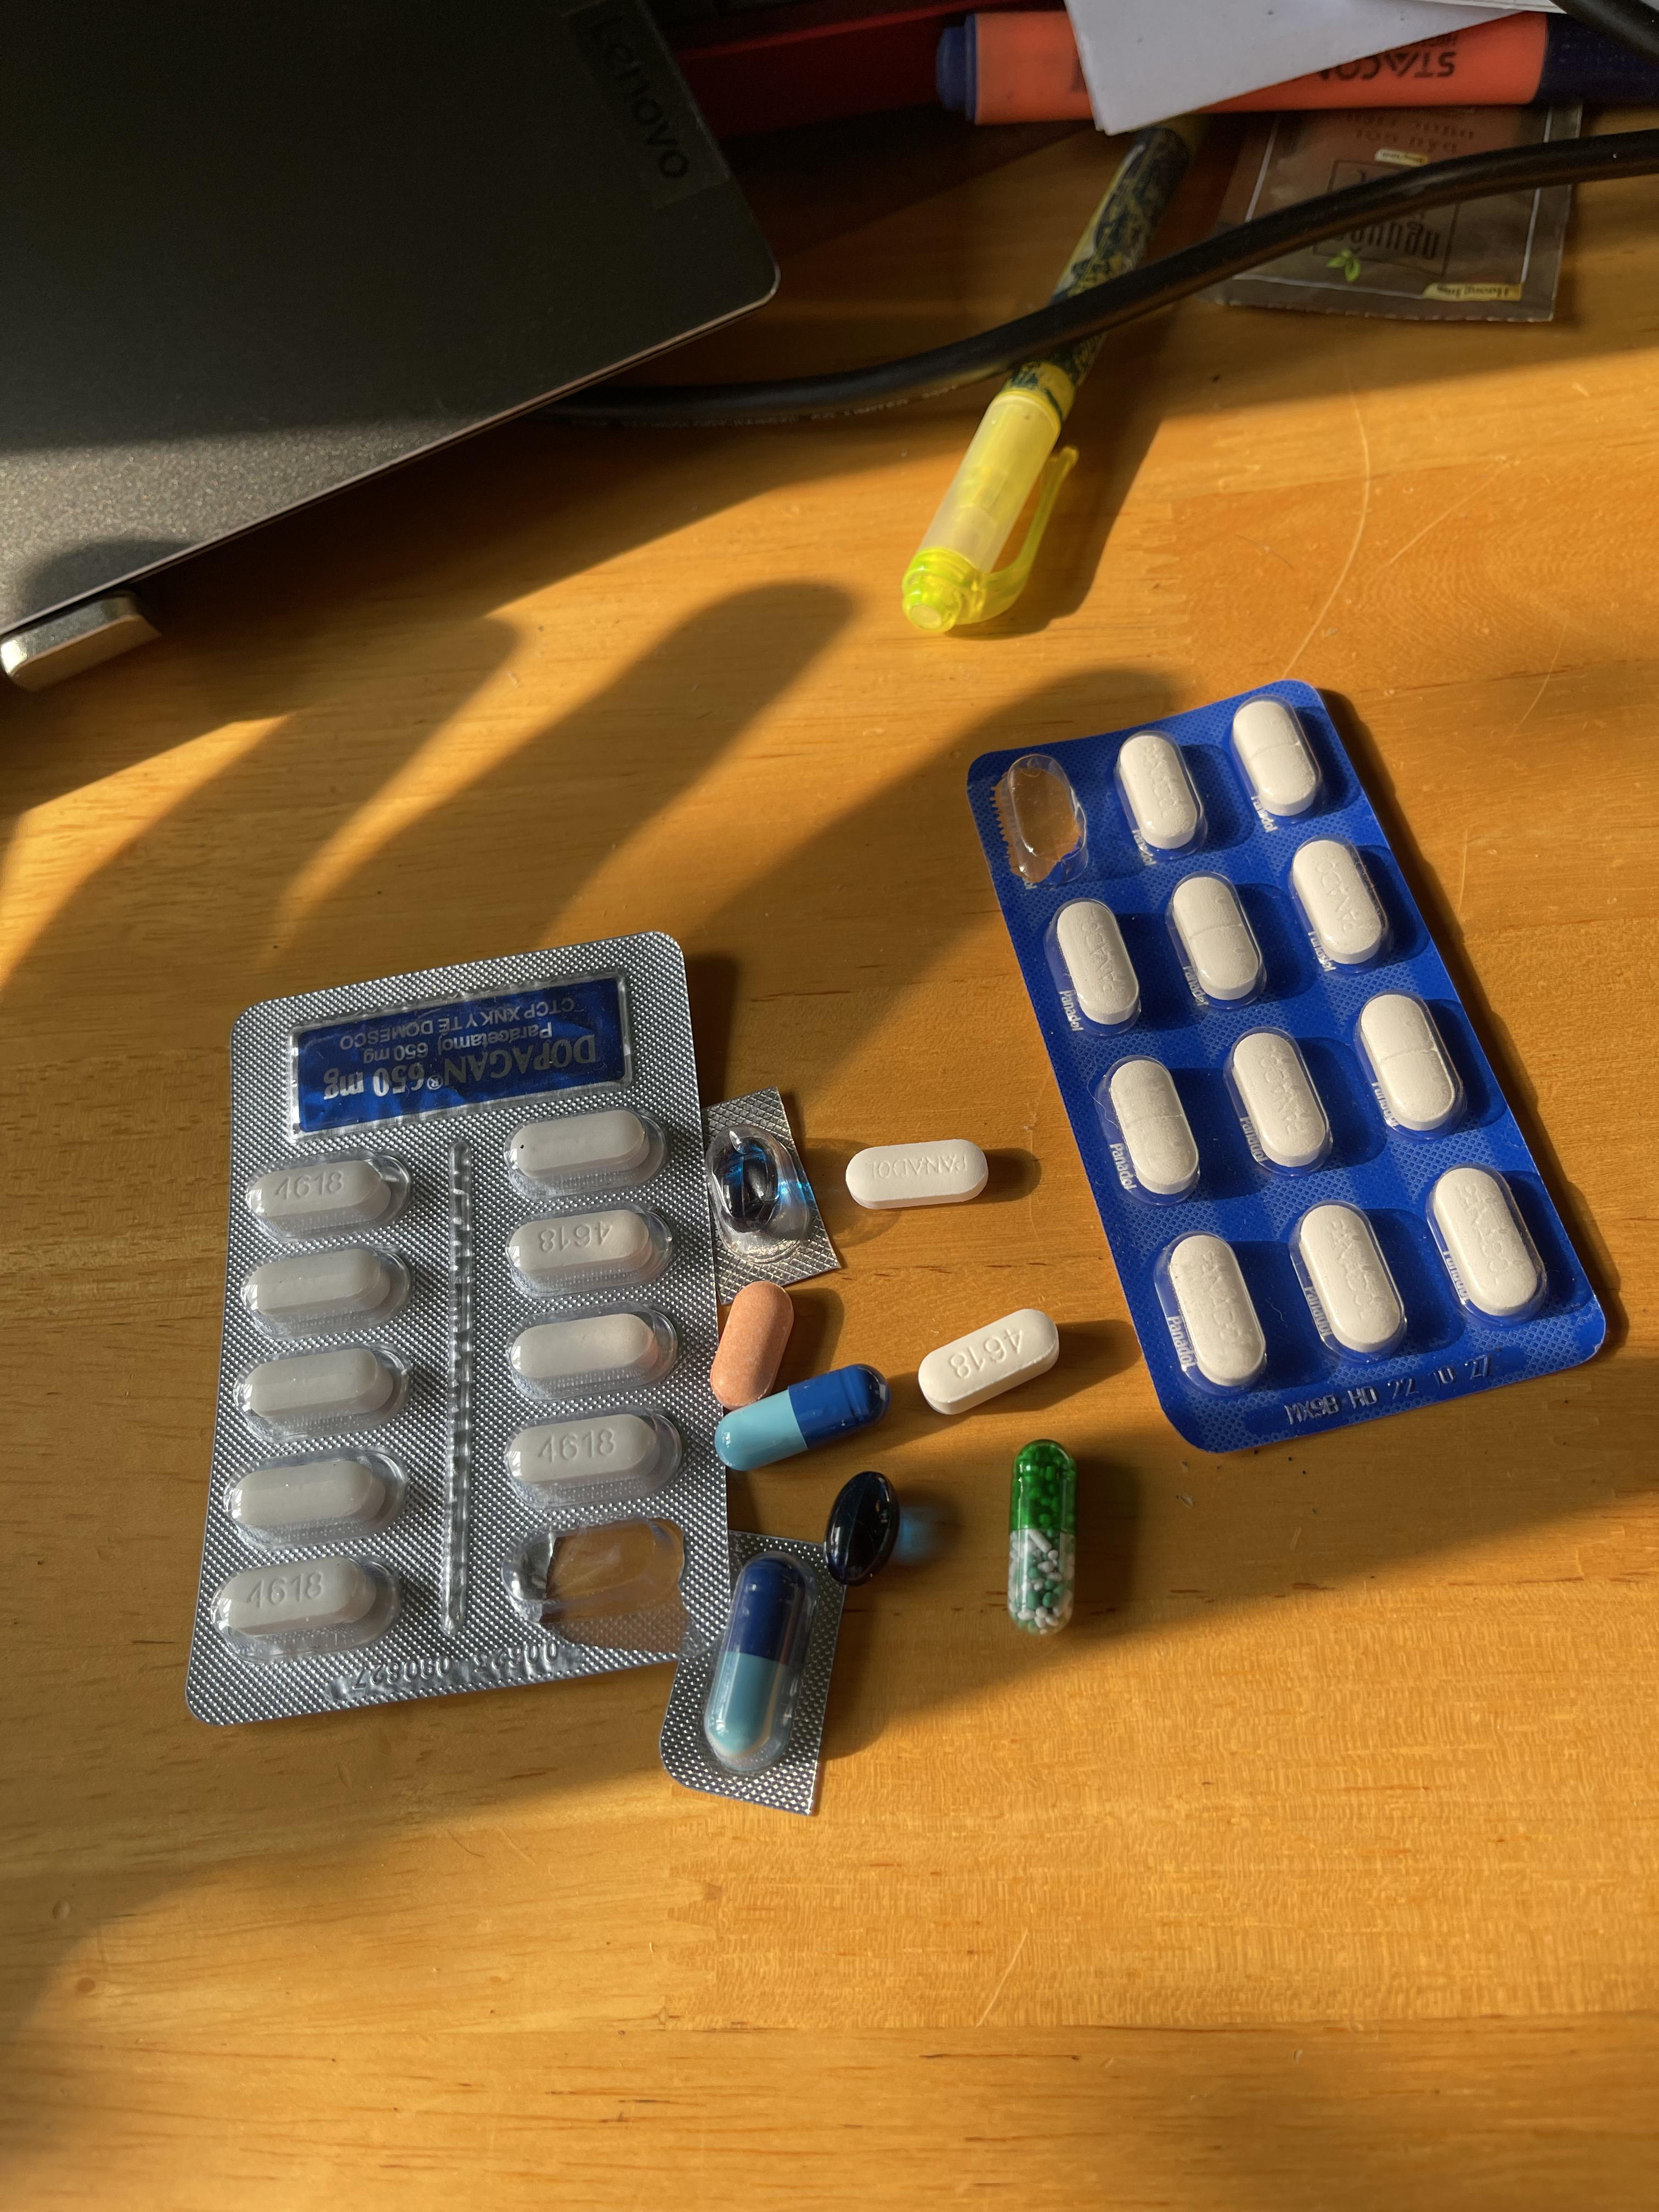Lincomyxin_500mg: (830, 1474, 899, 1580), (720, 1139, 781, 1226)
Loratadine_10mg: (706, 1284, 793, 1407)
Paracetamol_350mg: (1424, 1160, 1547, 1324), (1291, 1200, 1410, 1357), (1354, 986, 1467, 1137), (1162, 1231, 1269, 1388), (1227, 1029, 1333, 1172), (1290, 833, 1391, 972), (1107, 1057, 1201, 1198), (1168, 873, 1265, 1005), (1230, 695, 1323, 822), (1053, 899, 1140, 1028), (1115, 732, 1202, 853), (845, 1141, 981, 1211)
Paracetamol_500mg: (213, 1554, 389, 1651), (227, 1453, 404, 1540), (915, 1310, 1056, 1411), (507, 1205, 671, 1289), (242, 1245, 410, 1327), (240, 1346, 403, 1426), (505, 1108, 653, 1191), (509, 1312, 666, 1390), (249, 1155, 403, 1233), (511, 1413, 662, 1489)
Paracetamol_650mg: (1009, 1440, 1075, 1630)
pill: (706, 1555, 802, 1773), (716, 1367, 877, 1468)
